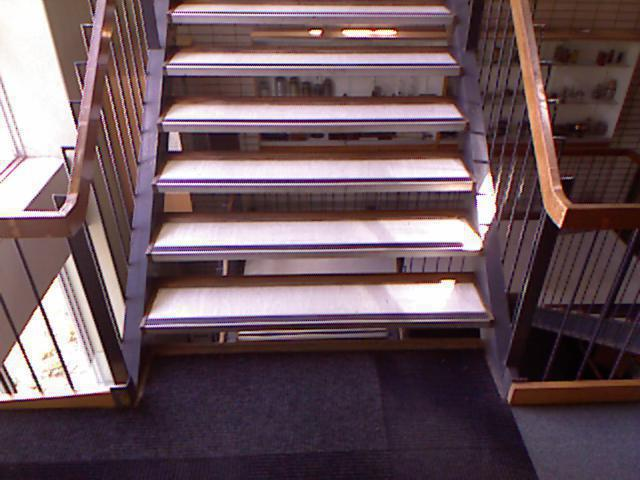Escaleras: (140, 0, 498, 356), (528, 293, 639, 380)
